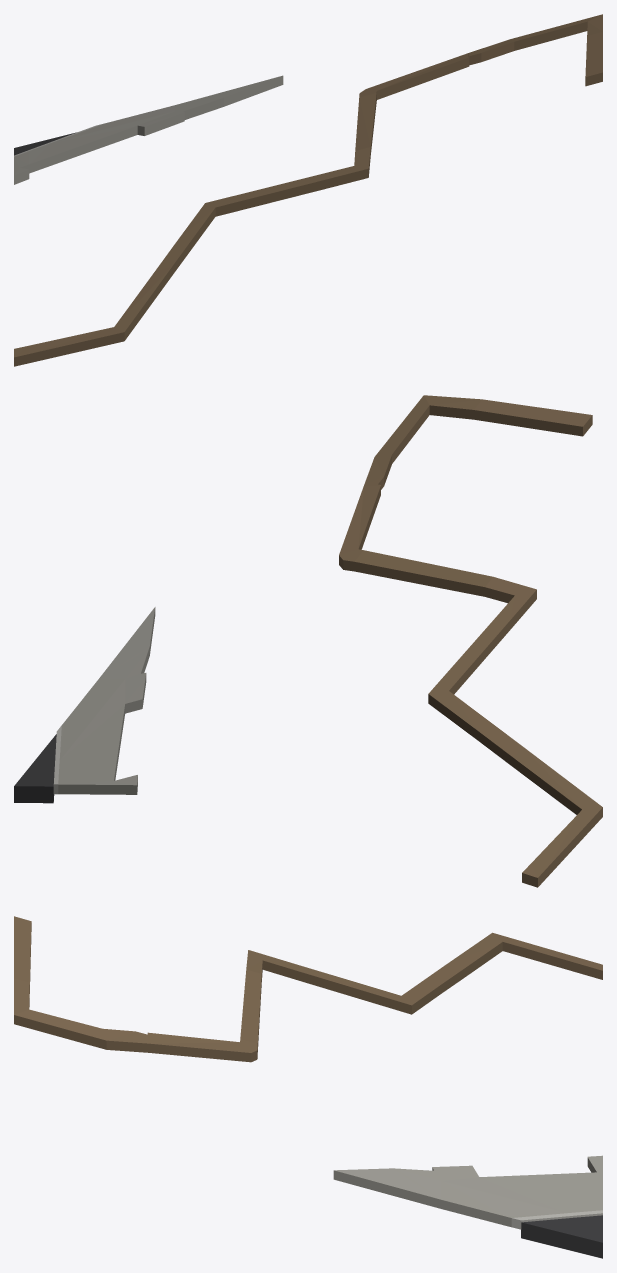
The picture shows the model from 3 angles, top to bottom: view 1: azimuth 90°, elevation 25°; view 2: azimuth 150°, elevation 25°; view 3: azimuth 270°, elevation 25°; orthographic projection. The views are drawn at different scales.
Size of the model in its own units: 39.99 by 16.38 by 40.28.
